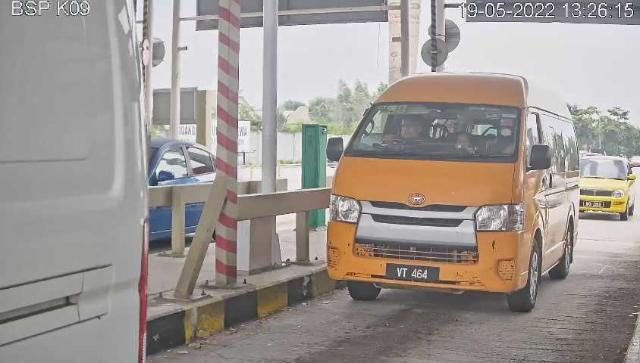License_Plate: (386, 263, 442, 288)
van: (327, 75, 581, 314)
